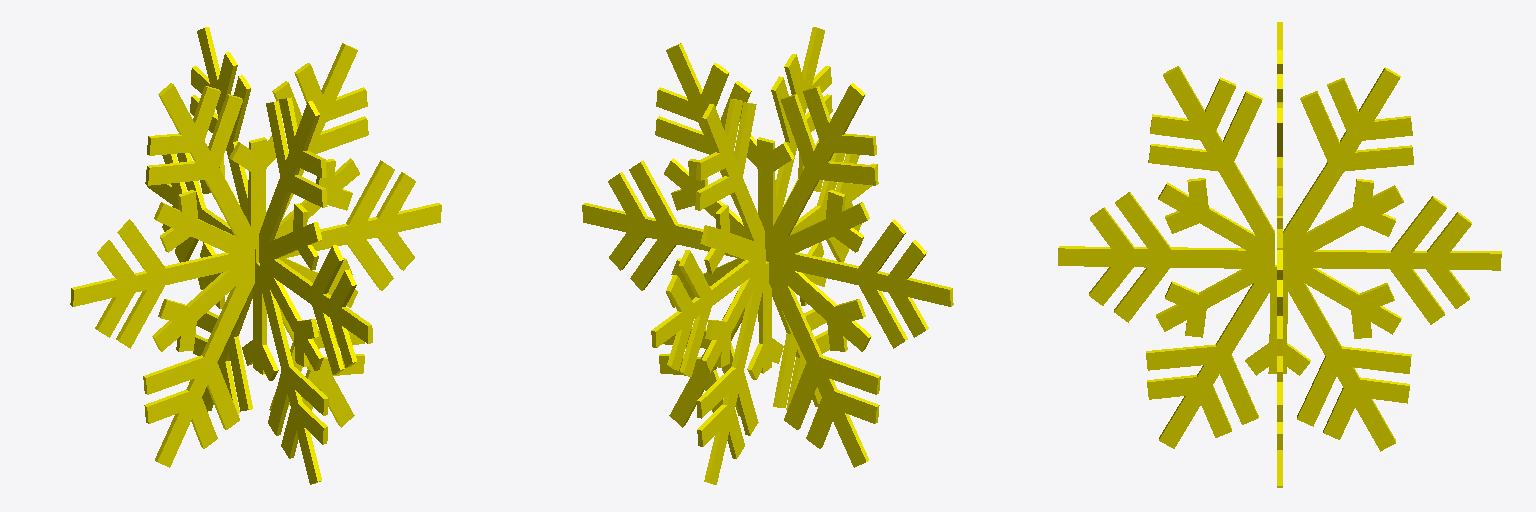
Rendered from Sparkle.obj.
3 views of the same model, side by side, from view 1: azimuth 30°, elevation 25°; view 2: azimuth 150°, elevation 25°; view 3: azimuth 270°, elevation 25° (orthographic).
Visible parts, largest first — view 1: obj_0; view 2: obj_0; view 3: obj_0.
Part boxes in pixels (bbox=[...]): obj_0: bbox=[70, 27, 441, 484]; obj_0: bbox=[582, 27, 953, 484]; obj_0: bbox=[1058, 22, 1501, 487].
Size of the model in its own units: 0.381 by 0.381 by 0.3973.